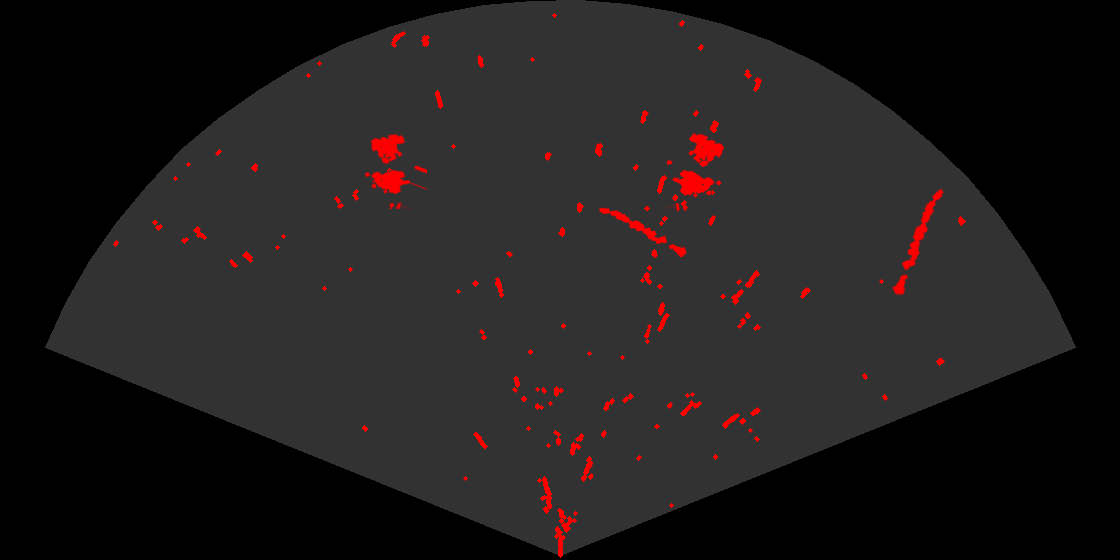cage: (363, 132, 427, 209), (667, 131, 726, 211)
chain: (890, 187, 945, 297), (598, 206, 688, 259)
